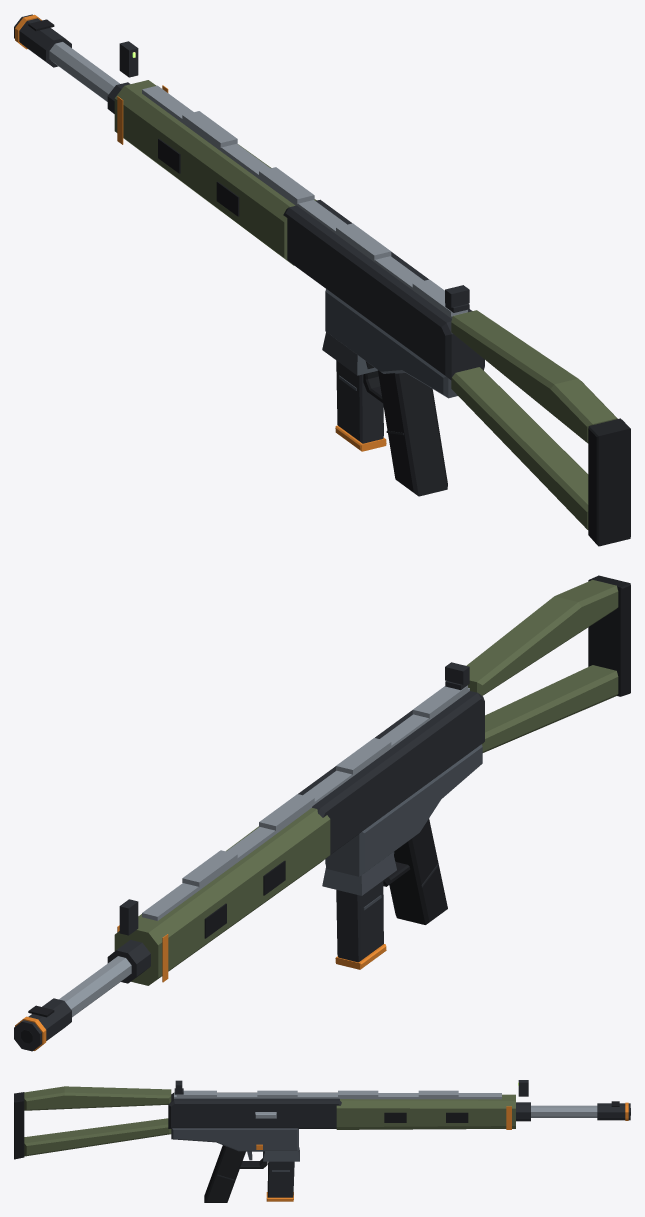
The model's file is rifle_marksman.glb.
3 views of the same model, one above another, from view 1: azimuth 30°, elevation 25°; view 2: azimuth 150°, elevation 25°; view 3: azimuth 270°, elevation 25° (orthographic). The views are drawn at different scales.
Visible parts, largest first — view 1: Body, Magazine; view 2: Body, Magazine; view 3: Body, Magazine.
Boxes of the visible parts, box(x1,y1,x2,y2) form: Body: box(14, 14, 630, 546); Magazine: box(335, 360, 386, 451); Body: box(14, 575, 630, 1051); Magazine: box(335, 880, 386, 969); Body: box(14, 1080, 630, 1202); Magazine: box(266, 1161, 294, 1201).
Bounding box in the file's own units: 0.0603 × 0.232 × 1.1.
